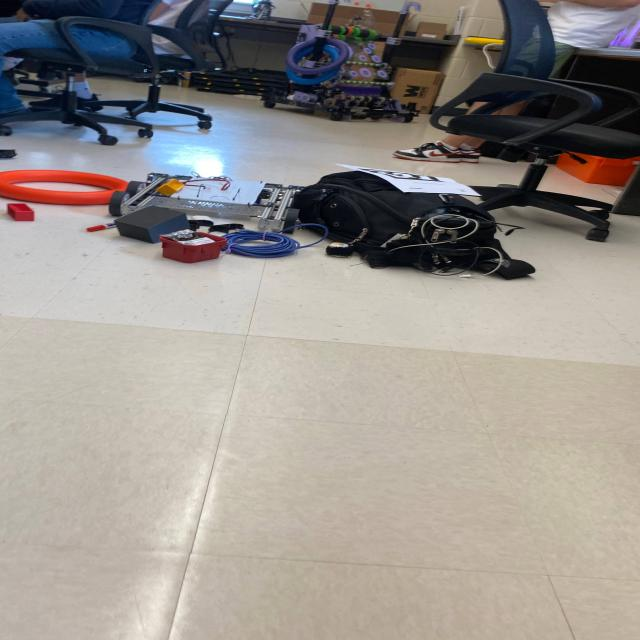red-specimen: (7, 203, 34, 221)
yellow-specimen: (157, 178, 184, 195)
